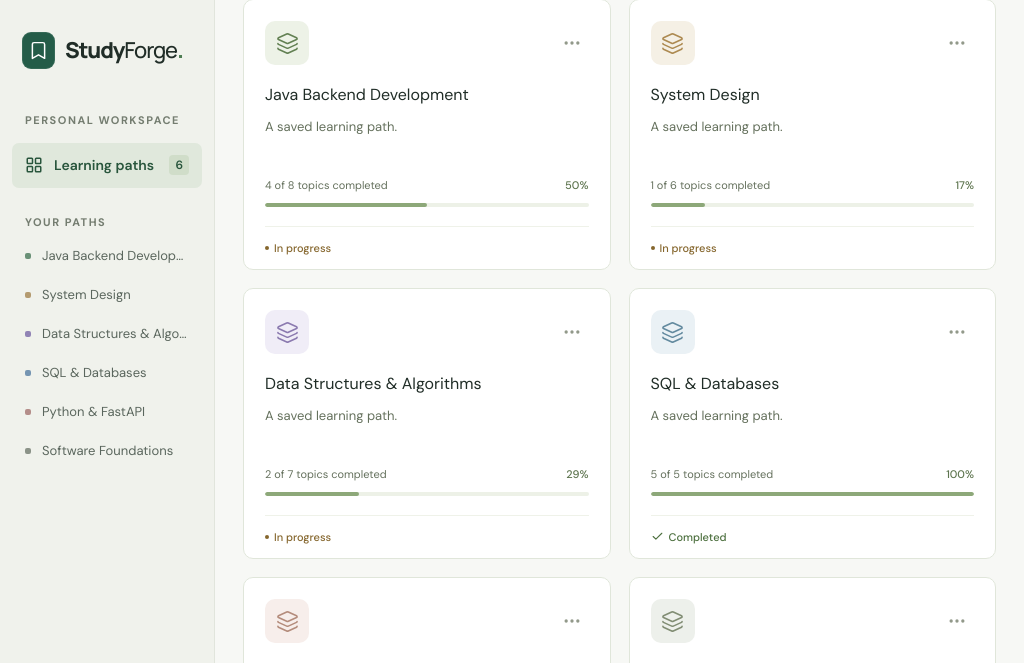
learning workspace › opens a path preview and supports a missing path
(page scrolled)
Click the link named "SQL & Databases Open learning path" at (720, 395), box [650,373,791,417]
(page scrolled)
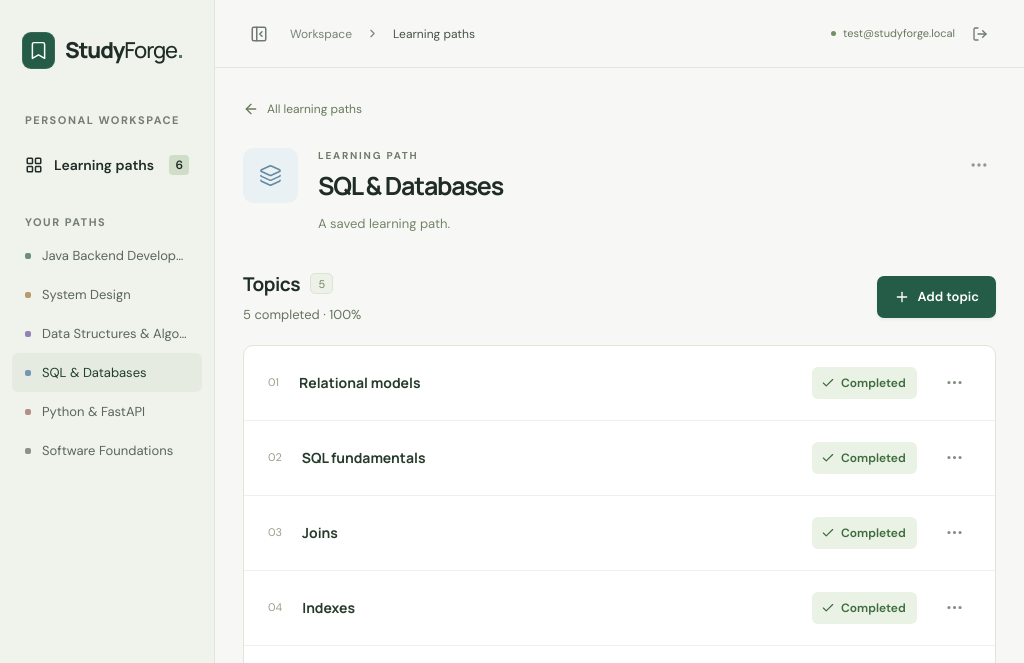
Expected: the link "Relational models" is shown, [299,372,420,393]
Result: the heading "SQL & Databases" is shown at [318,168,503,203]
Result: the text "5 completed · 100%" is shown at [243,305,361,325]
